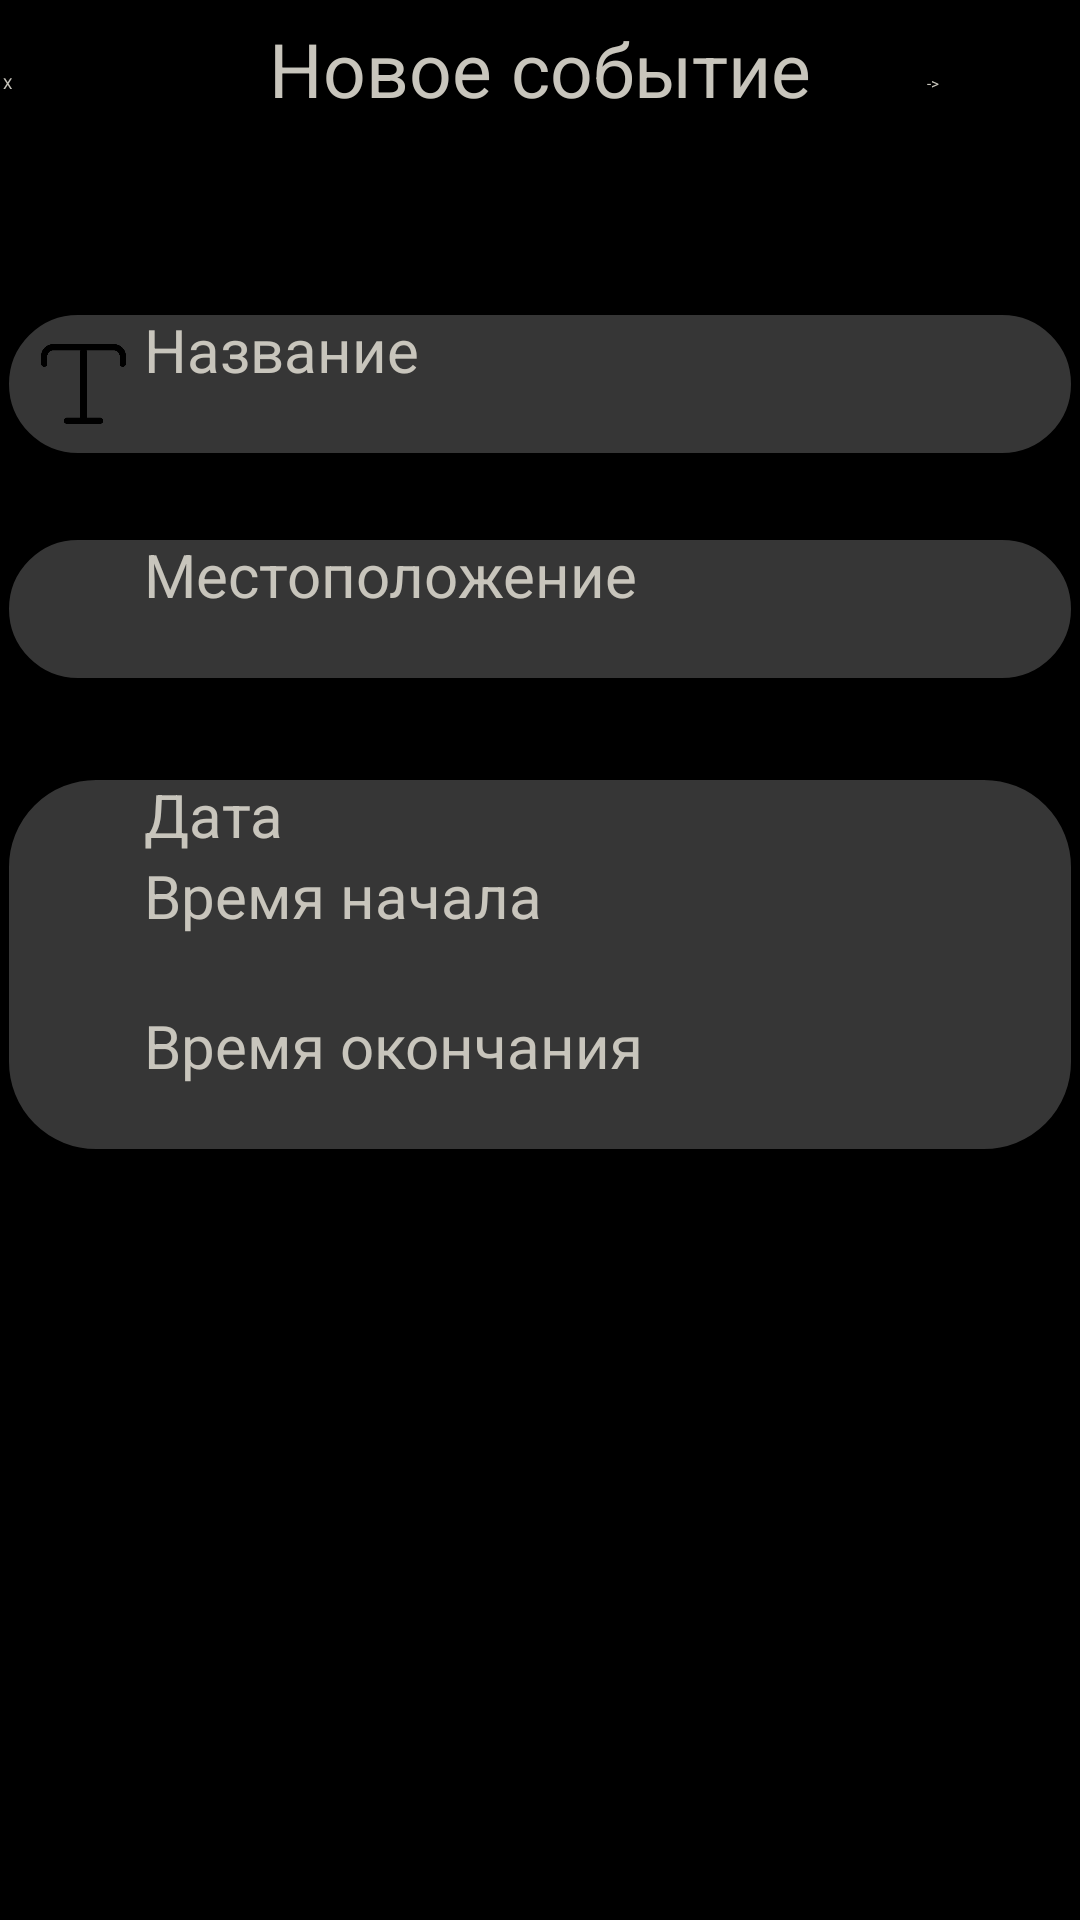

Icons on this 1080px x 1920px Android screen, each with the point to tap as point (x, y):
text: point (83, 384)
